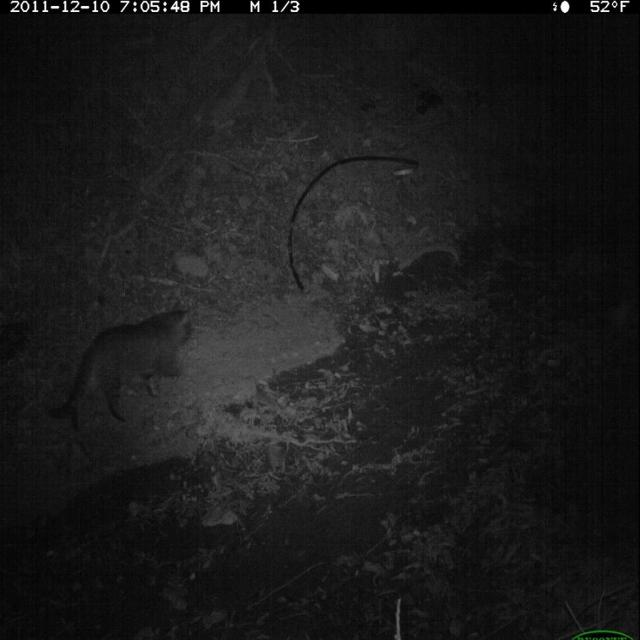cat: (41, 292, 210, 449)
